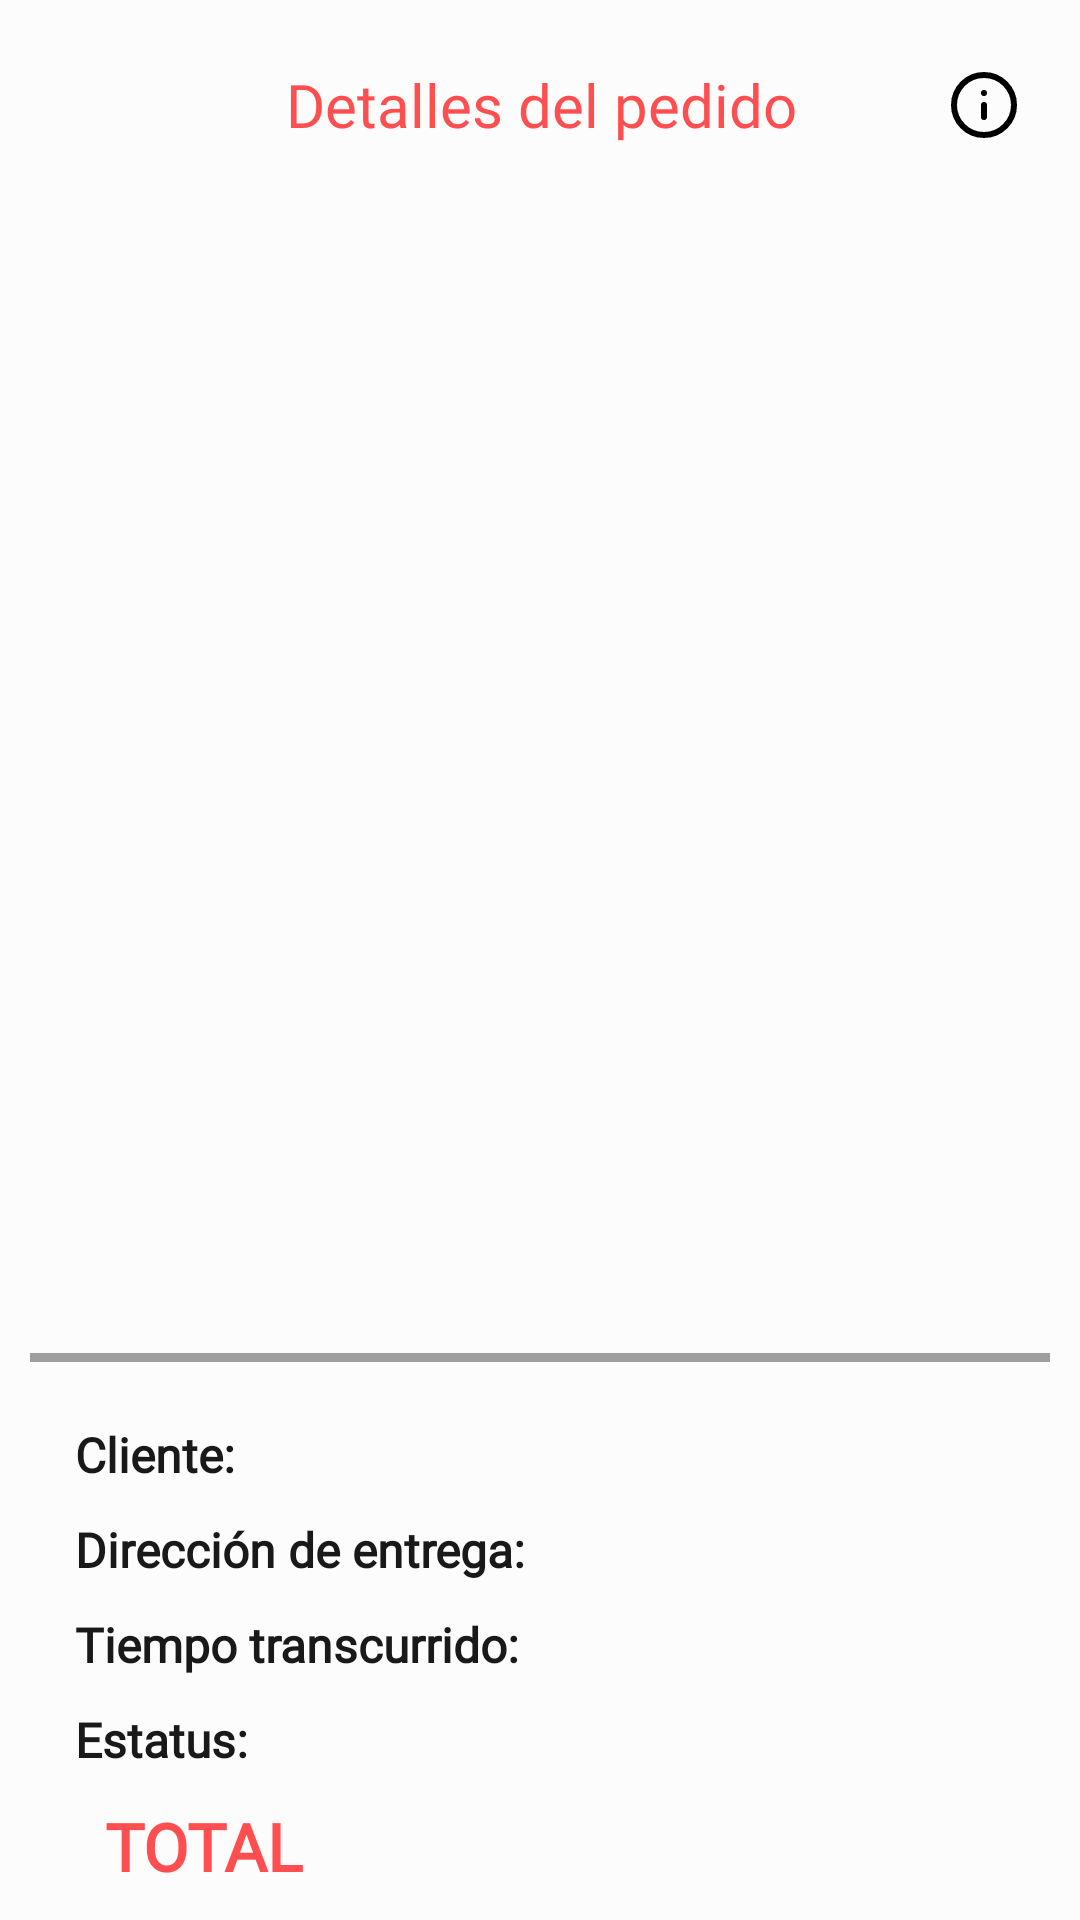

Named icons in this screenshot (1080×1920) and their bounding boxes, (x1, y1, x2, y2):
info: (951, 72, 1017, 138)
